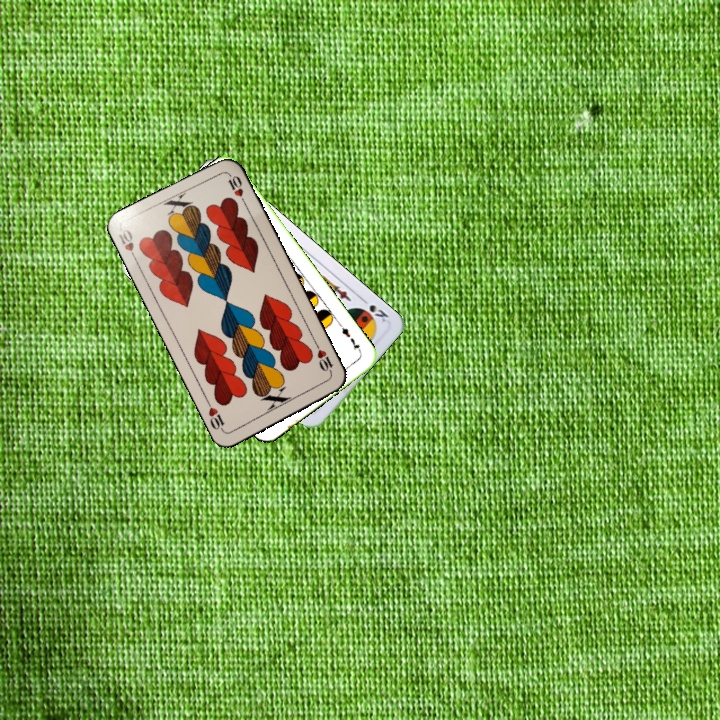E7: (336, 320, 364, 356)
H10: (114, 225, 140, 264), (311, 339, 336, 378)
SK: (357, 294, 391, 325)
